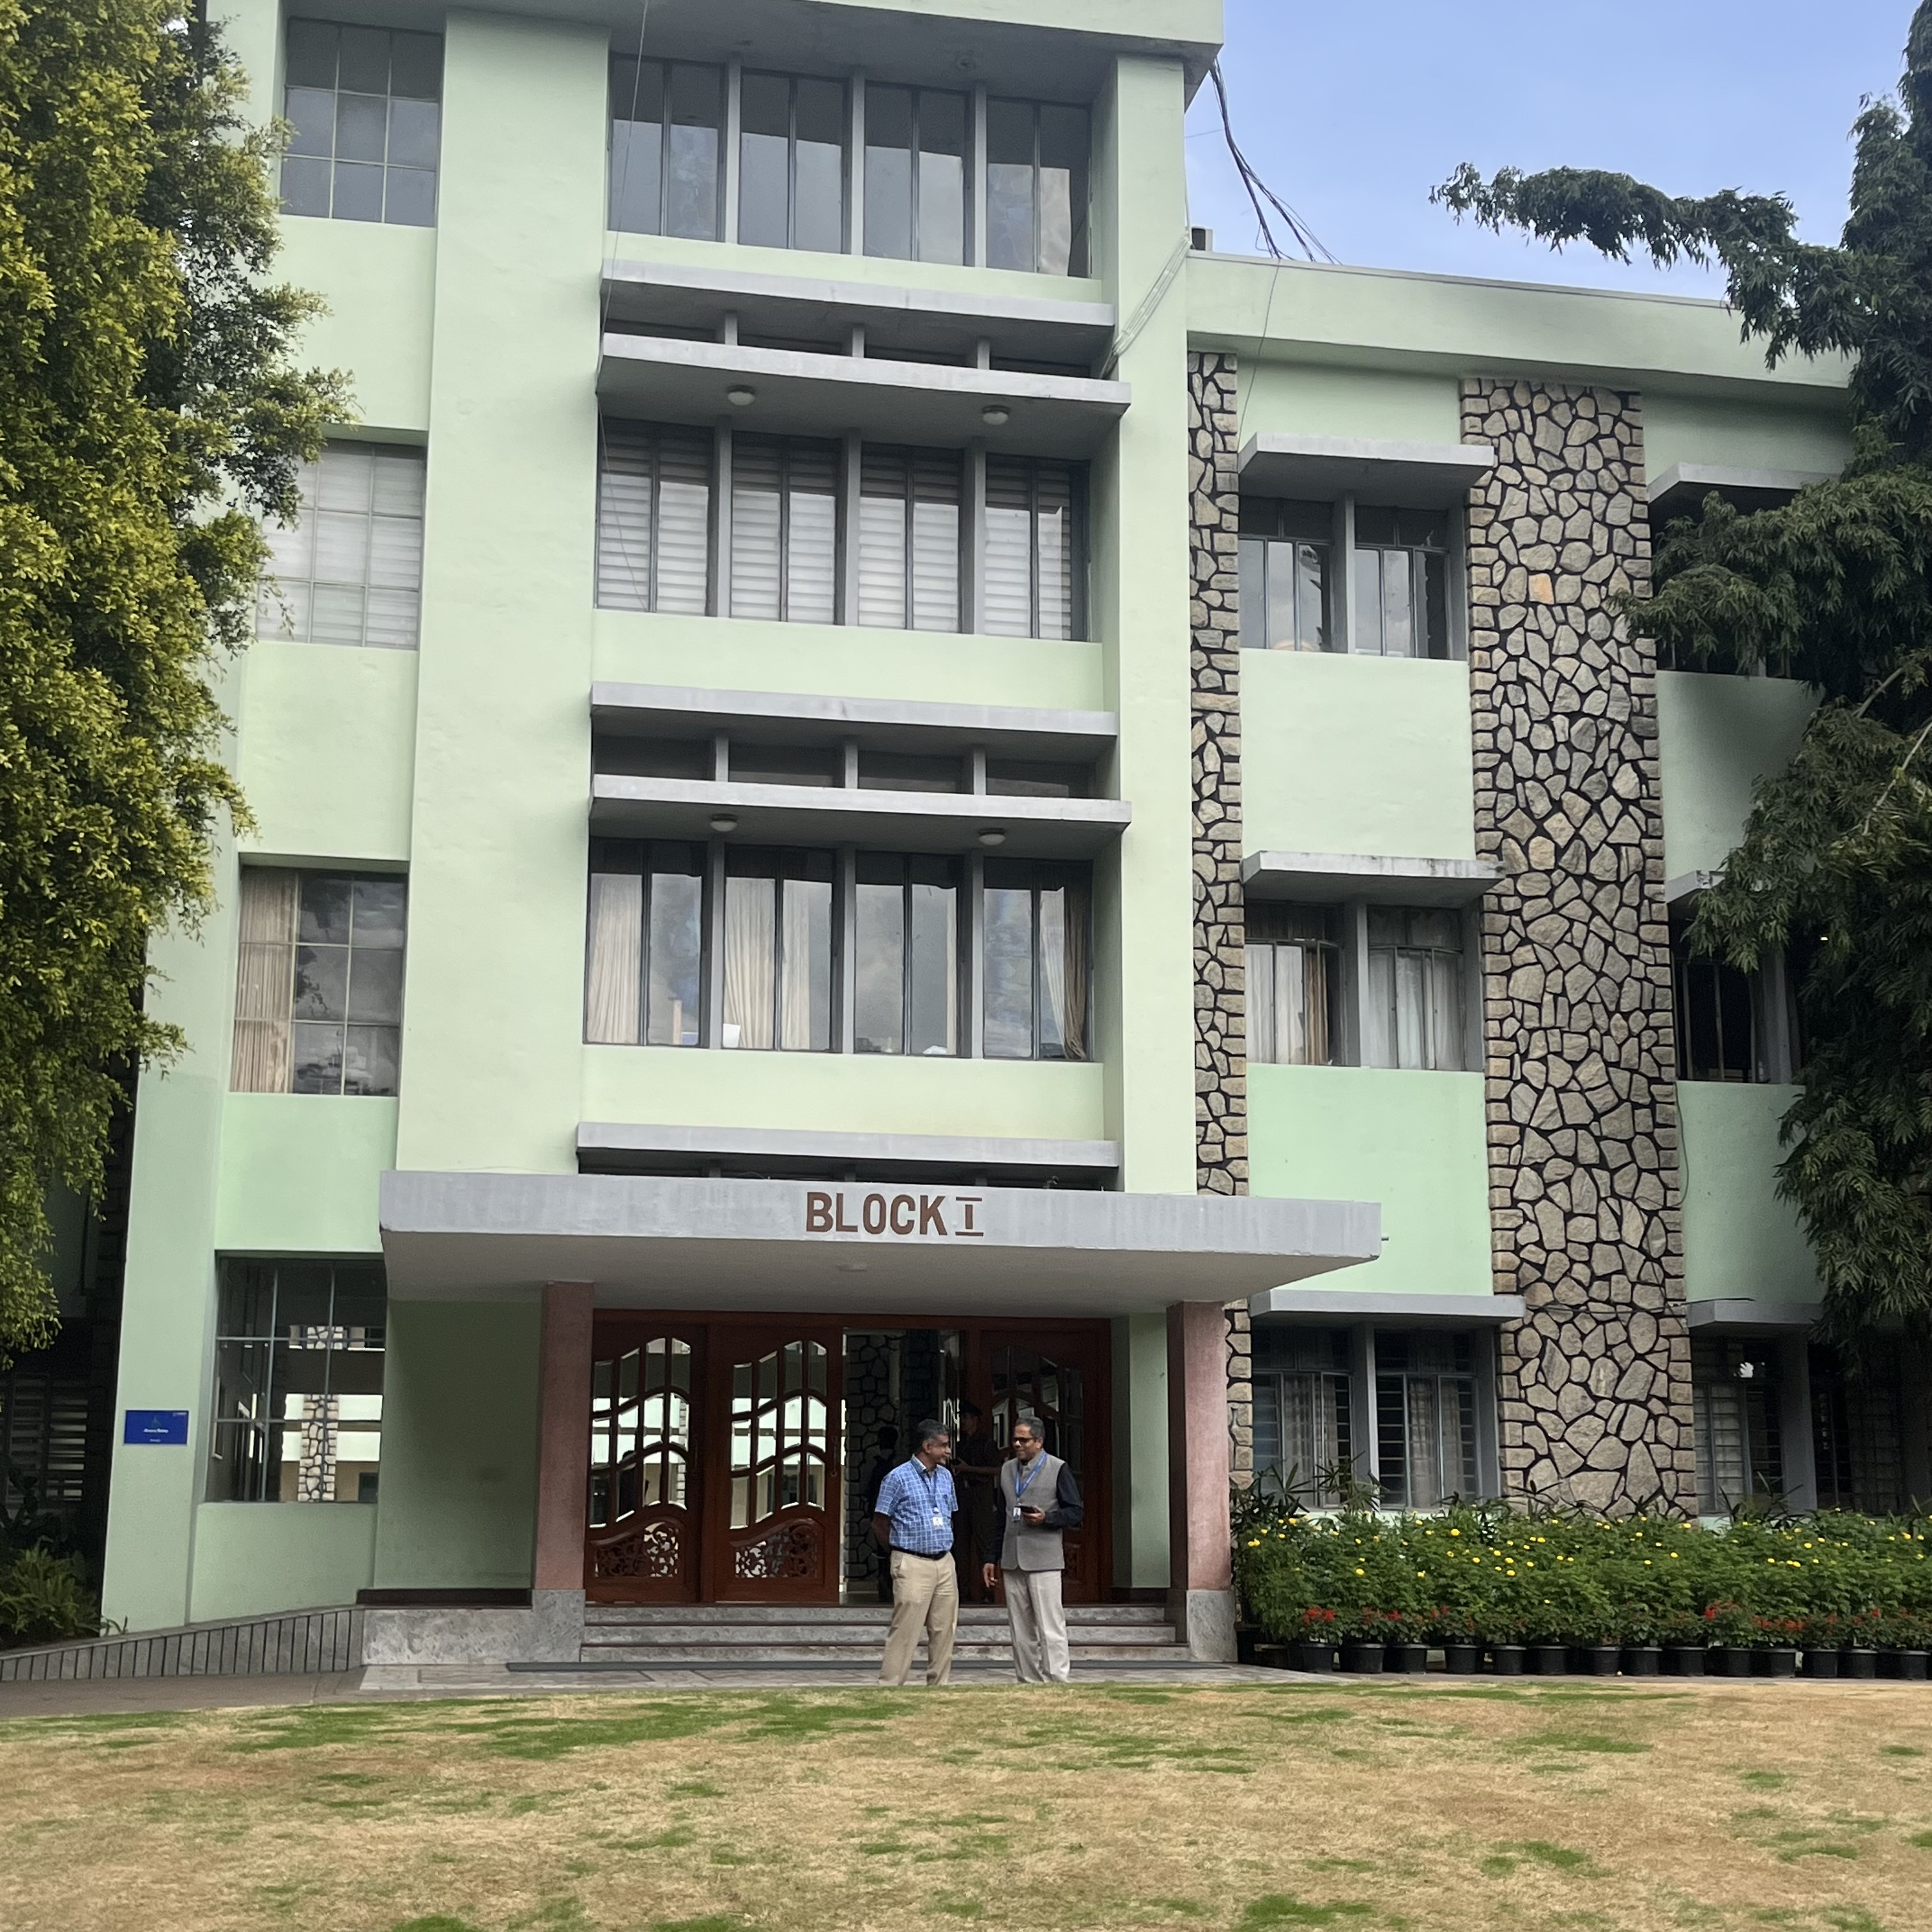Block 1: (237, 9, 1778, 1621)
